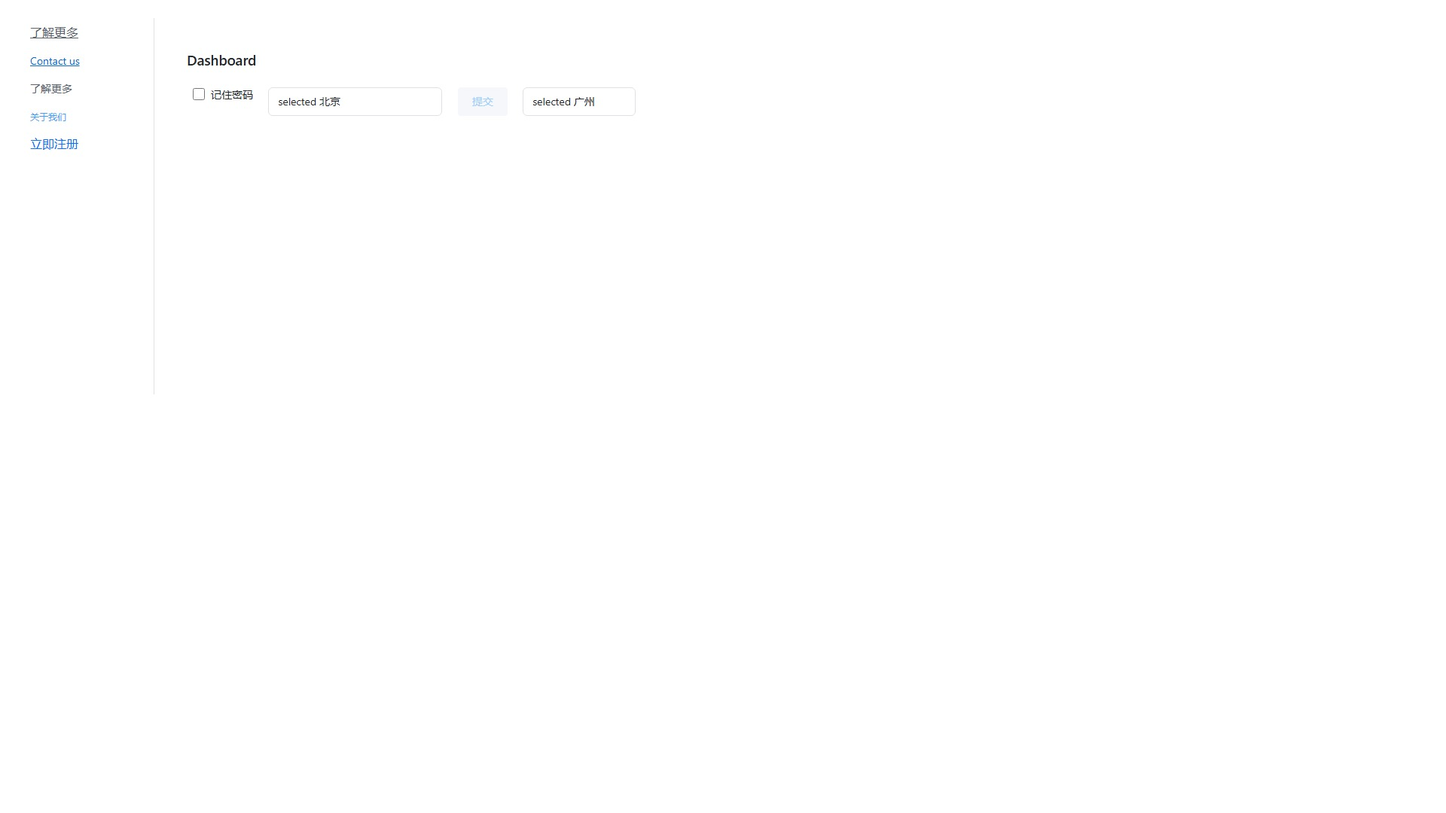button: (458, 87, 507, 116)
checkbox: (193, 88, 205, 100)
icon: (211, 87, 253, 101)
link: (30, 24, 78, 40), (30, 53, 80, 68), (30, 136, 78, 151), (30, 81, 72, 96), (30, 111, 66, 123)
radio: (193, 87, 253, 101)
select: (268, 87, 442, 116), (523, 87, 636, 116)
